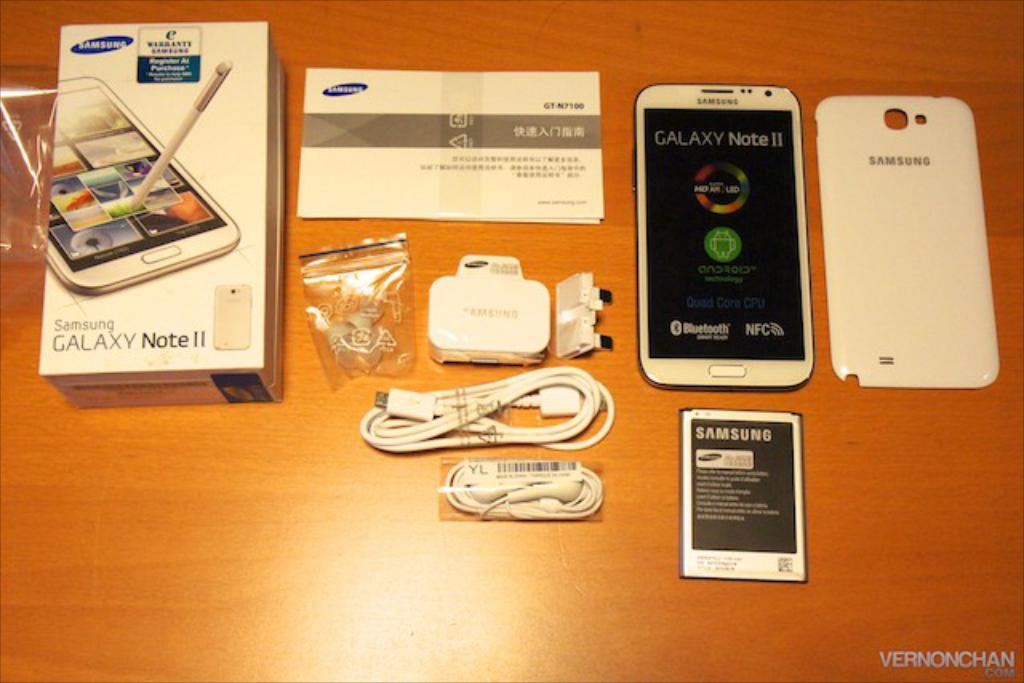mobile phone: (630, 81, 817, 395), (812, 94, 1003, 390)
